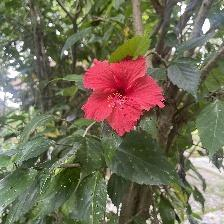hibiscus: (82, 55, 168, 136)
